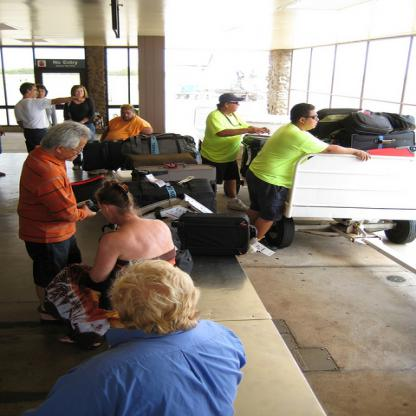suitcase: (172, 212, 258, 255), (123, 178, 217, 213), (131, 163, 217, 182), (337, 131, 415, 151), (342, 112, 393, 135), (376, 112, 416, 135), (364, 145, 416, 156)
